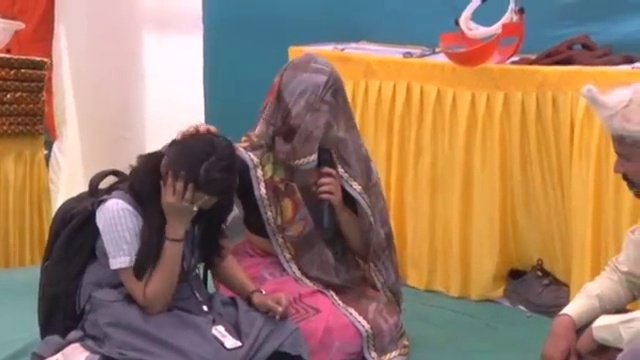helmet_off: (263, 55, 354, 159), (580, 80, 640, 202), (163, 134, 237, 224)
person: (234, 56, 402, 360), (26, 126, 240, 360), (538, 78, 640, 360)
